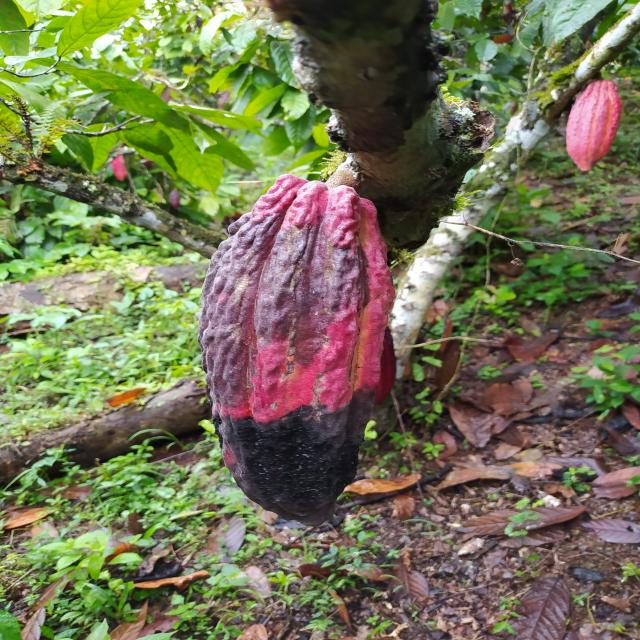Fitoftora: (197, 175, 400, 527)
Sana: (564, 78, 623, 175)
